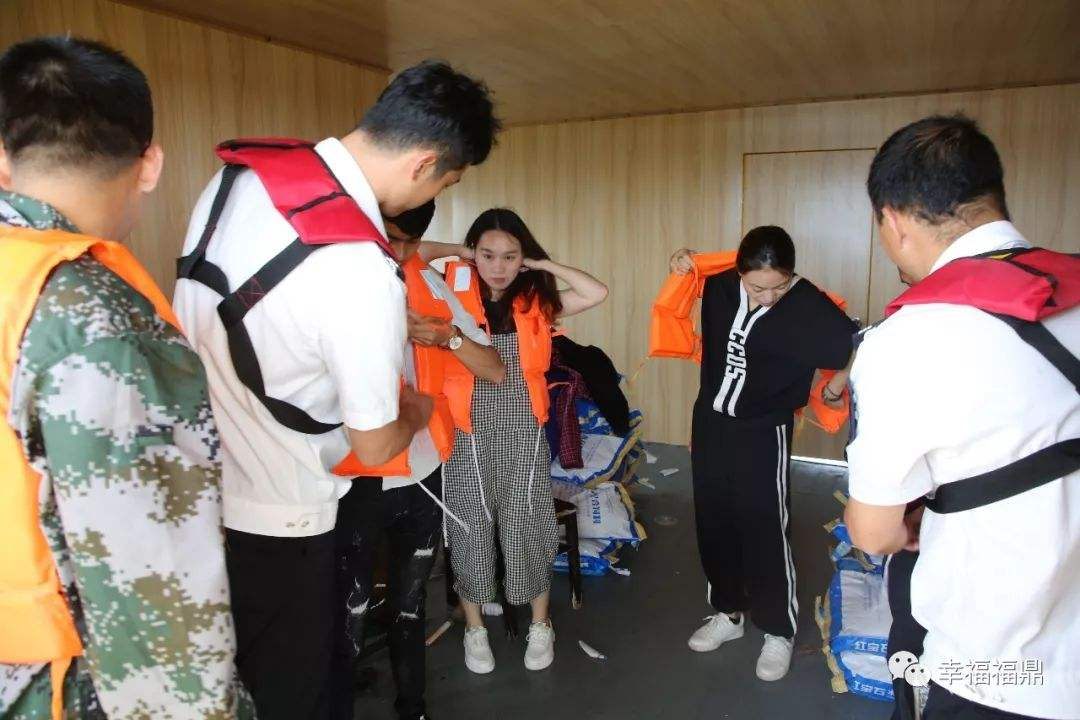other_clothes: (668, 251, 827, 437)
reflective_clothes: (2, 191, 213, 689), (866, 222, 1080, 661), (174, 118, 390, 531), (343, 242, 466, 501), (448, 253, 556, 437)
